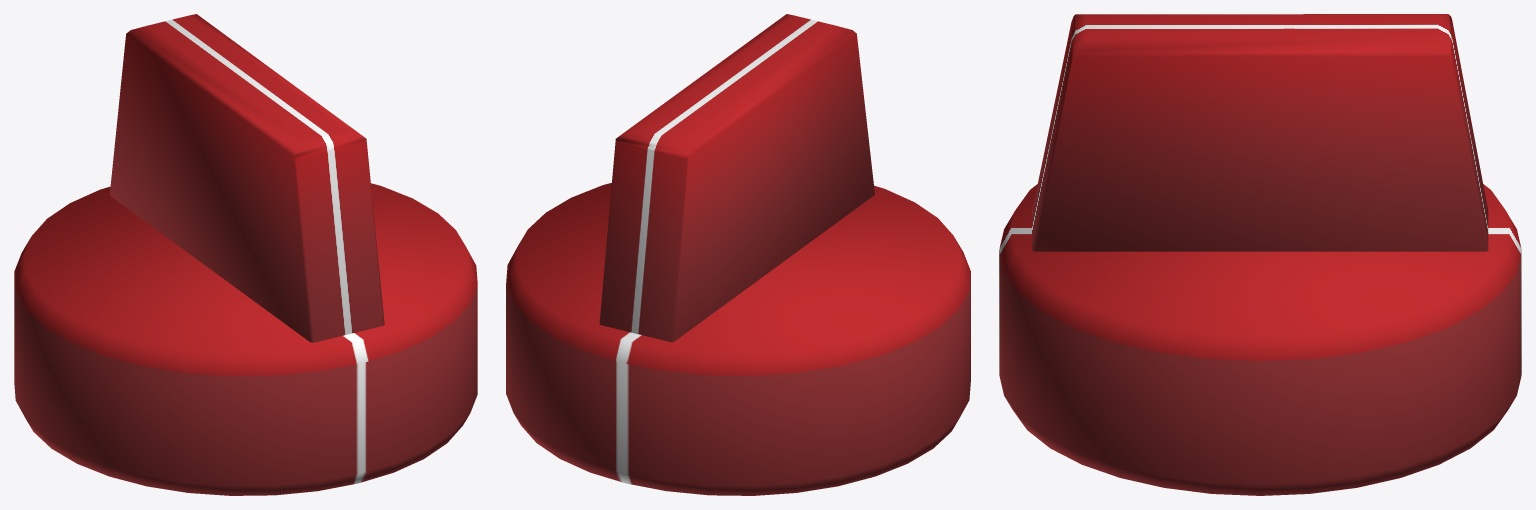
The picture shows the model from 3 angles, left to right: view 1: azimuth 30°, elevation 25°; view 2: azimuth 150°, elevation 25°; view 3: azimuth 270°, elevation 25°; orthographic projection. The views are drawn at different scales.
Visible parts, largest first — view 1: 円柱.003, 円柱; view 2: 円柱.003, 円柱; view 3: 円柱.003, 円柱.
Boxes of the visible parts, x1=… form: 円柱.003: x1=14, y1=183, x2=477, y2=495; 円柱: x1=109, y1=14, x2=384, y2=342; 円柱.003: x1=506, y1=183, x2=970, y2=495; 円柱: x1=599, y1=14, x2=874, y2=342; 円柱.003: x1=999, y1=184, x2=1521, y2=495; 円柱: x1=1032, y1=14, x2=1488, y2=251.
Bounding box in the file's own units: 2 × 1.53 × 2.
2 materials, 2 textured.
